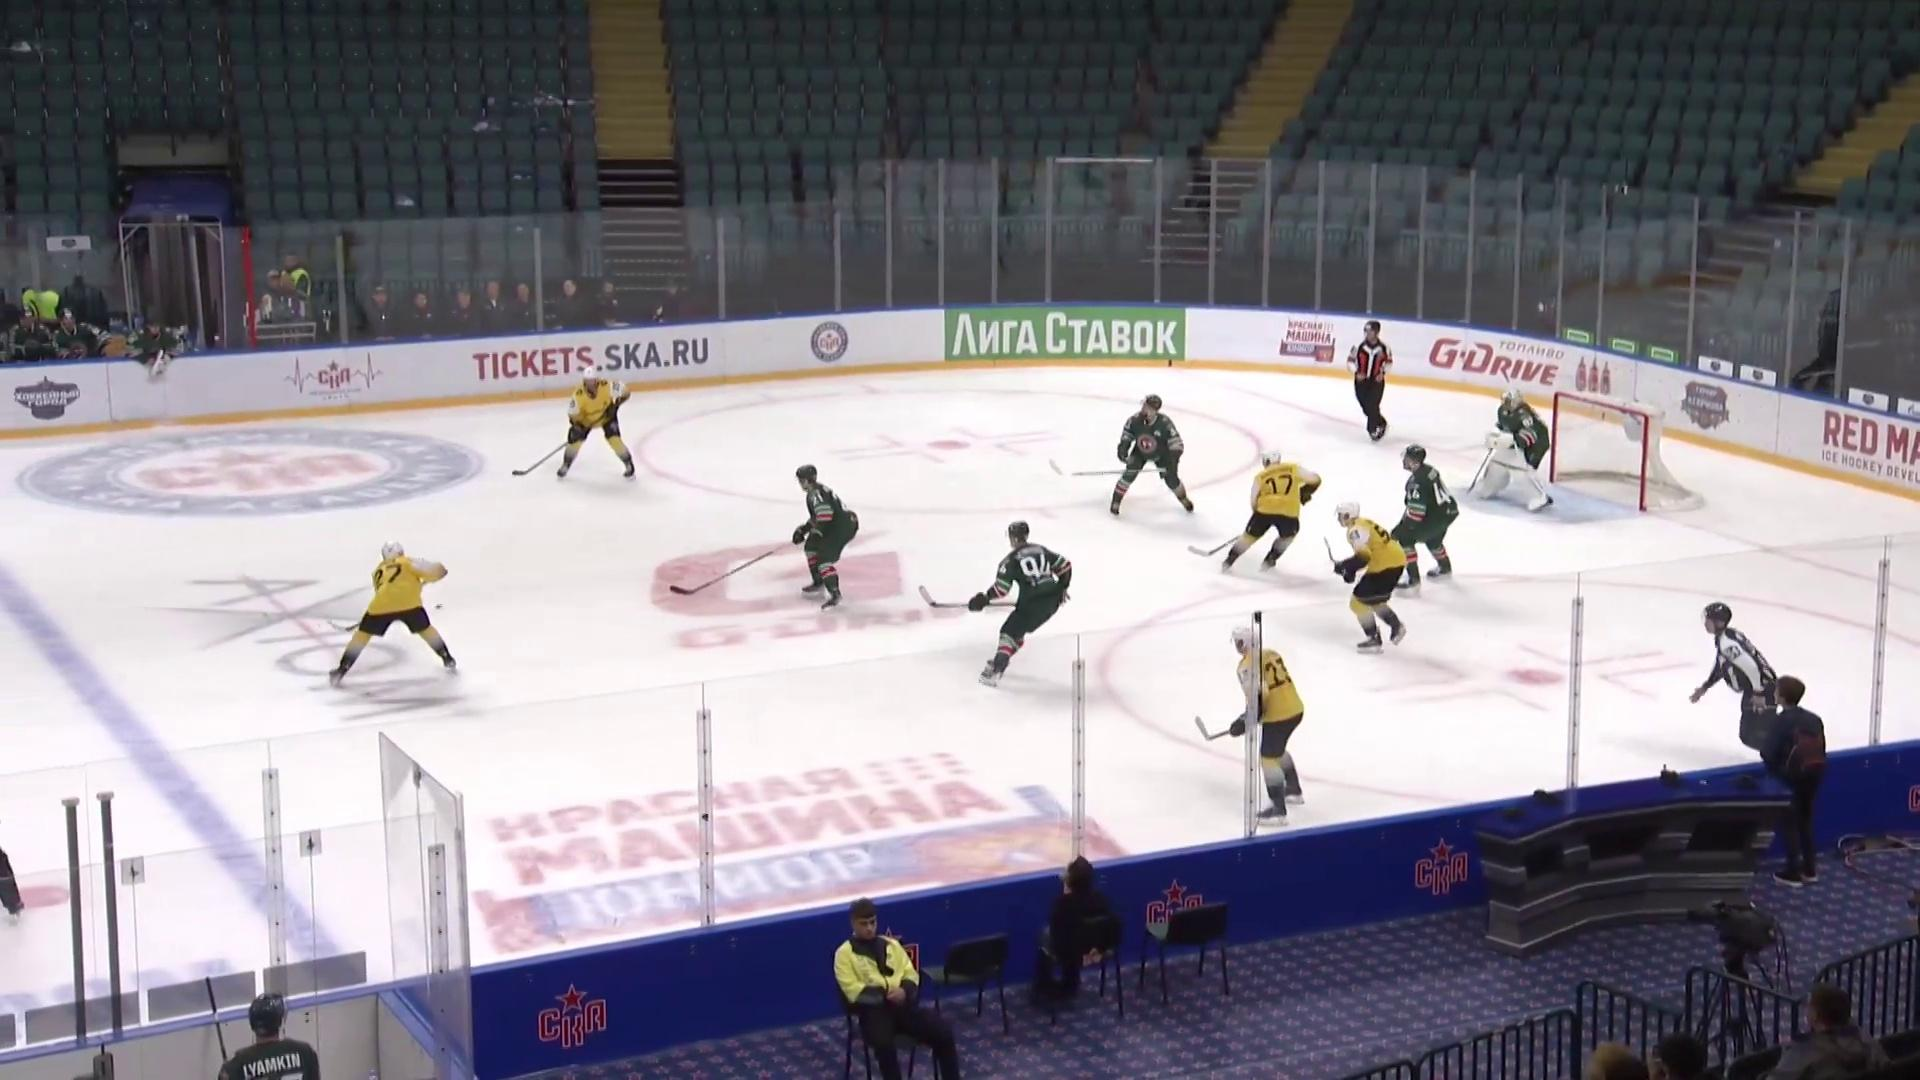ball: (433, 604, 444, 611)
